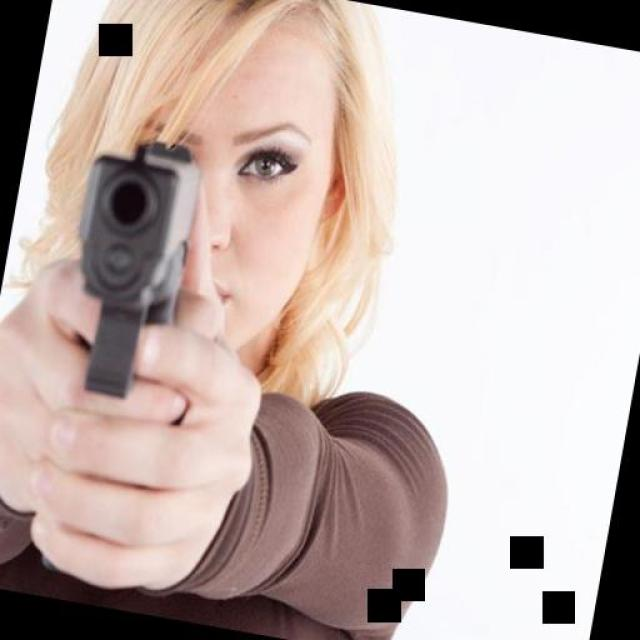gun: (42, 124, 212, 410)
